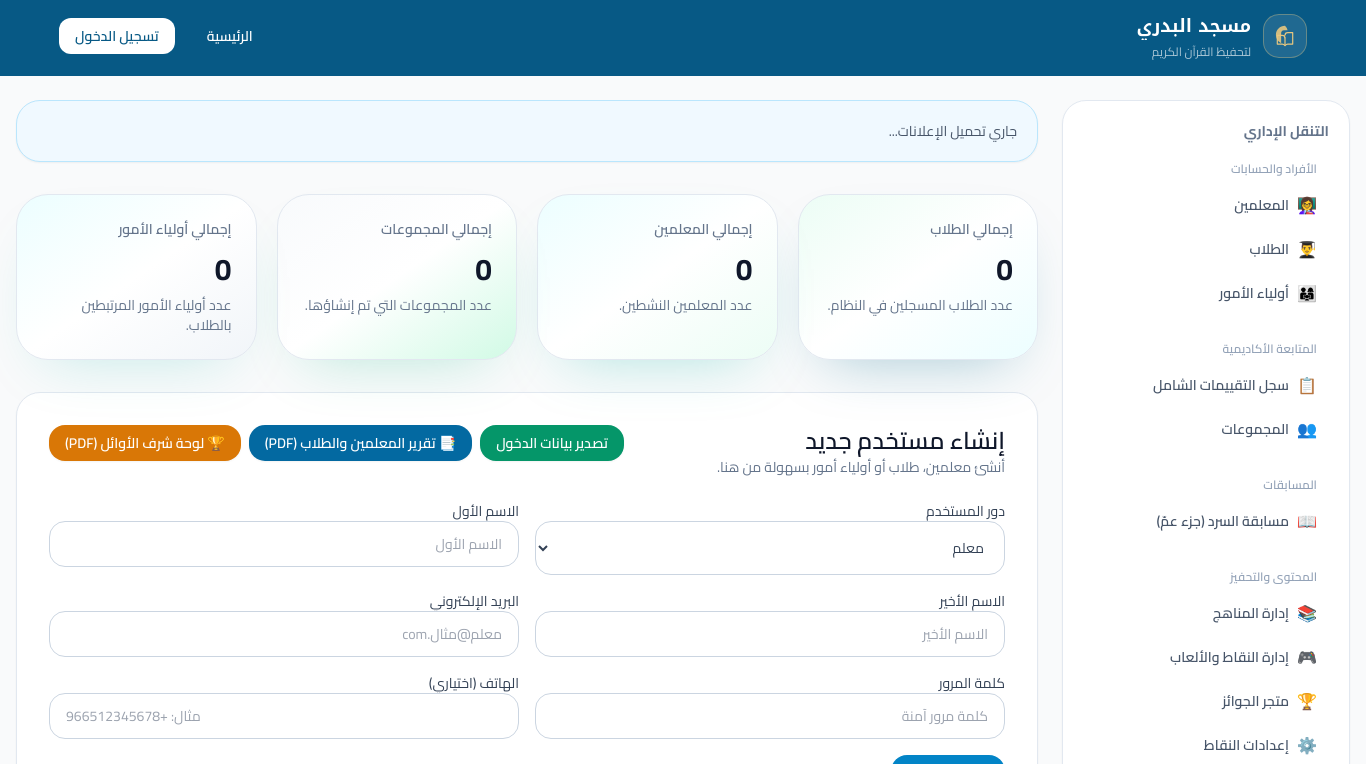
Scenario: renders the SuperAdmin dashboard user management sections
Expected: the heading "إنشاء مستخدم جديد" is shown, [805,418,1005,463]
Click the button "👥 المجموعات".
click(1206, 429)  # box [1083,409,1329,449]
(page scrolled)
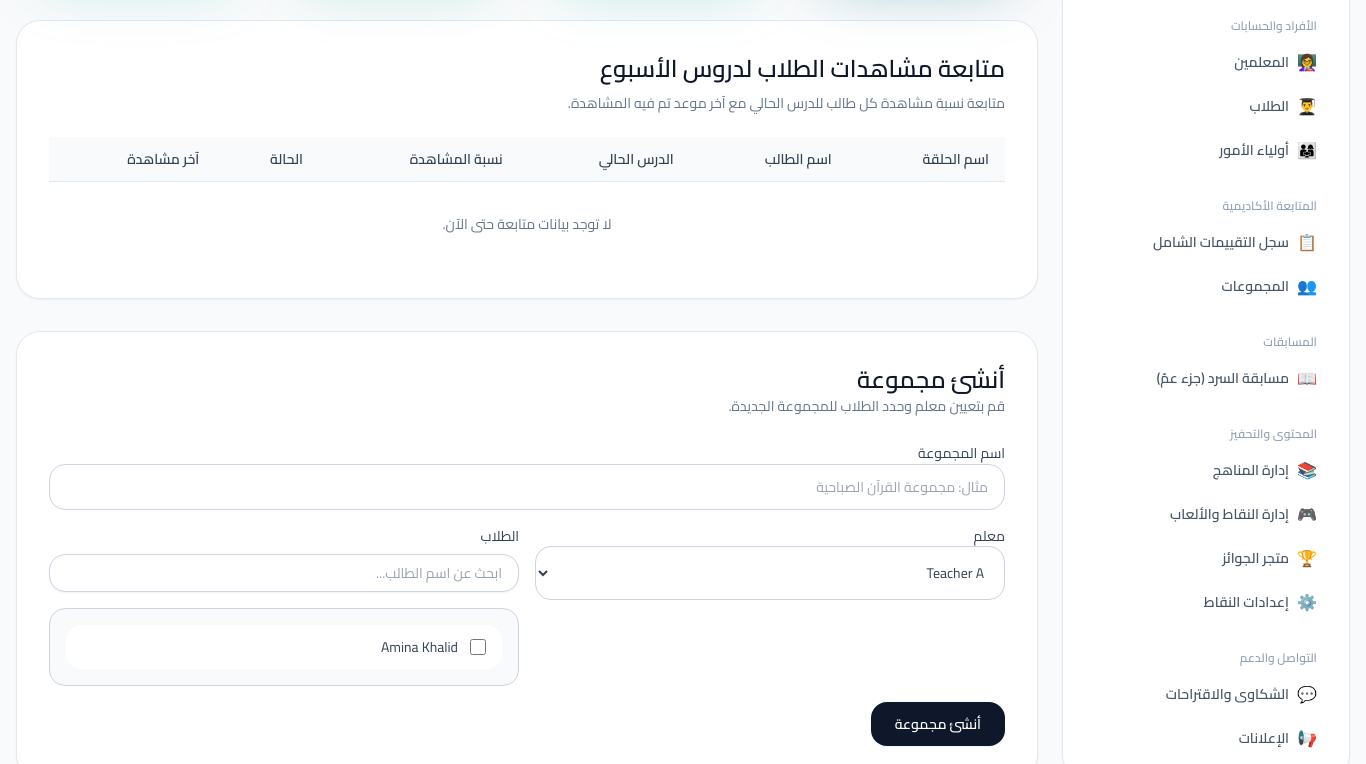
Expected: the heading "أنشئ مجموعة" is shown, [857,357,1005,402]
